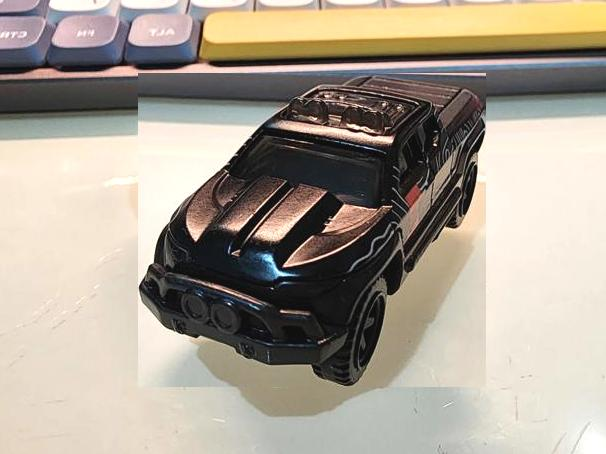toy-car: (138, 73, 486, 387)
